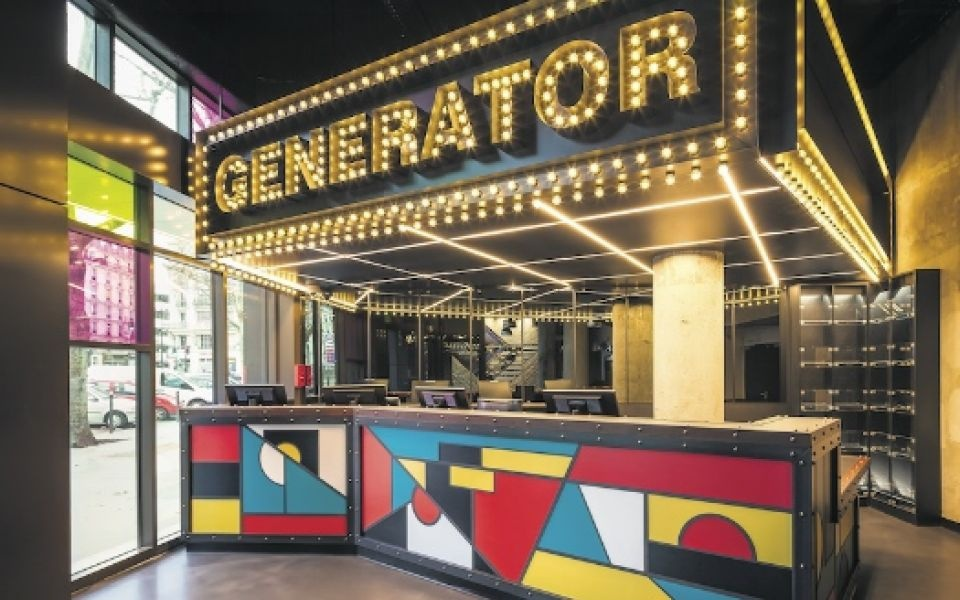text: (208, 4, 223, 220), (224, 4, 239, 220), (240, 4, 255, 220), (256, 4, 271, 220), (272, 4, 287, 220), (288, 4, 303, 220), (304, 4, 319, 220), (320, 4, 335, 220), (336, 4, 351, 220), (352, 4, 367, 220), (368, 4, 383, 220), (384, 4, 399, 220), (400, 4, 415, 220), (416, 4, 431, 220), (432, 4, 447, 220), (448, 4, 463, 220), (464, 4, 479, 220), (480, 4, 495, 220), (496, 4, 511, 220), (512, 4, 527, 220), (528, 4, 543, 220), (544, 4, 559, 220), (560, 4, 575, 220), (576, 4, 591, 220), (592, 4, 607, 220), (608, 4, 623, 220), (624, 4, 639, 220), (640, 4, 655, 220), (656, 4, 671, 220), (672, 4, 687, 220), (688, 4, 703, 220)
